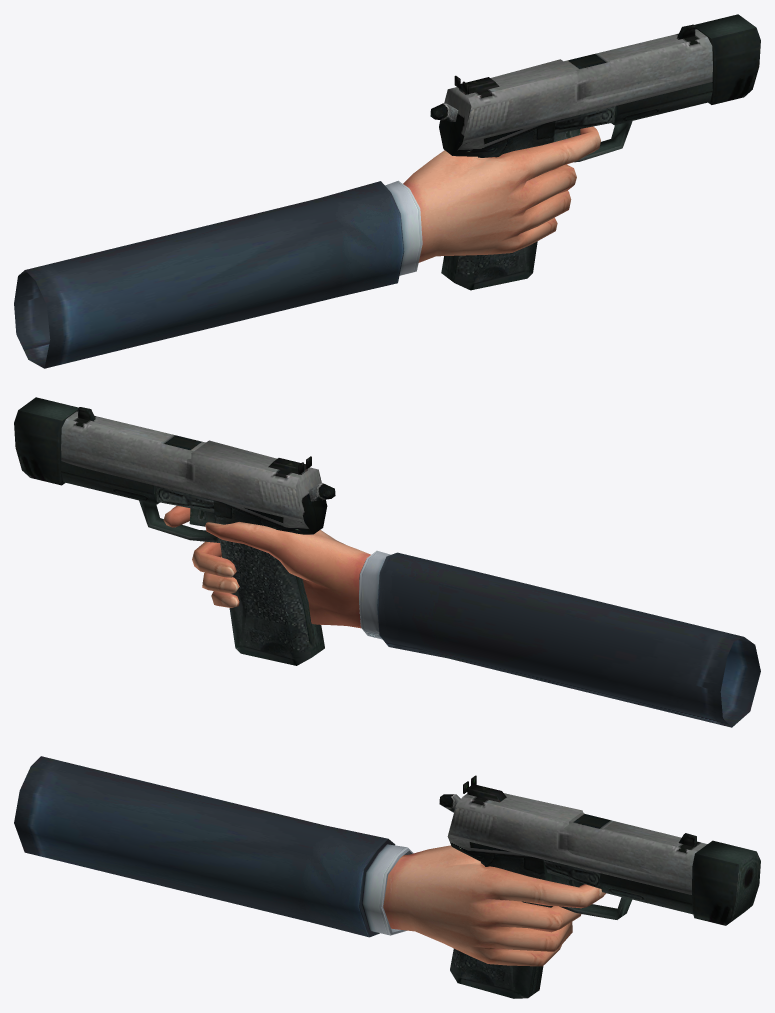
The model's file is GunInHand.obj.
3 views of the same model, one above another, from view 1: azimuth 30°, elevation 25°; view 2: azimuth 150°, elevation 25°; view 3: azimuth 330°, elevation 25° (orthographic). The views are drawn at different scales.
Size of the model in its own units: 0.5519 by 0.148 by 0.0664.
Materials: 2 (2 with a texture image).
